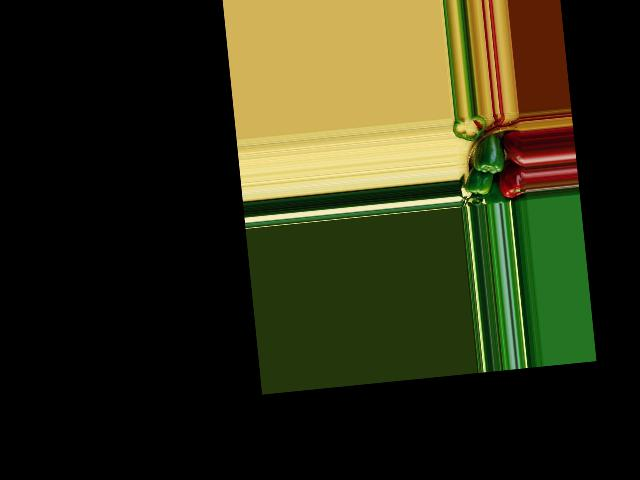bell_pepper: (503, 129, 523, 168)
